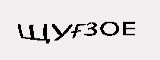Б: (119, 26, 138, 51)
В: (76, 24, 97, 54)
Л: (20, 29, 42, 55)
М: (43, 25, 71, 58)
Т: (100, 27, 122, 53)
